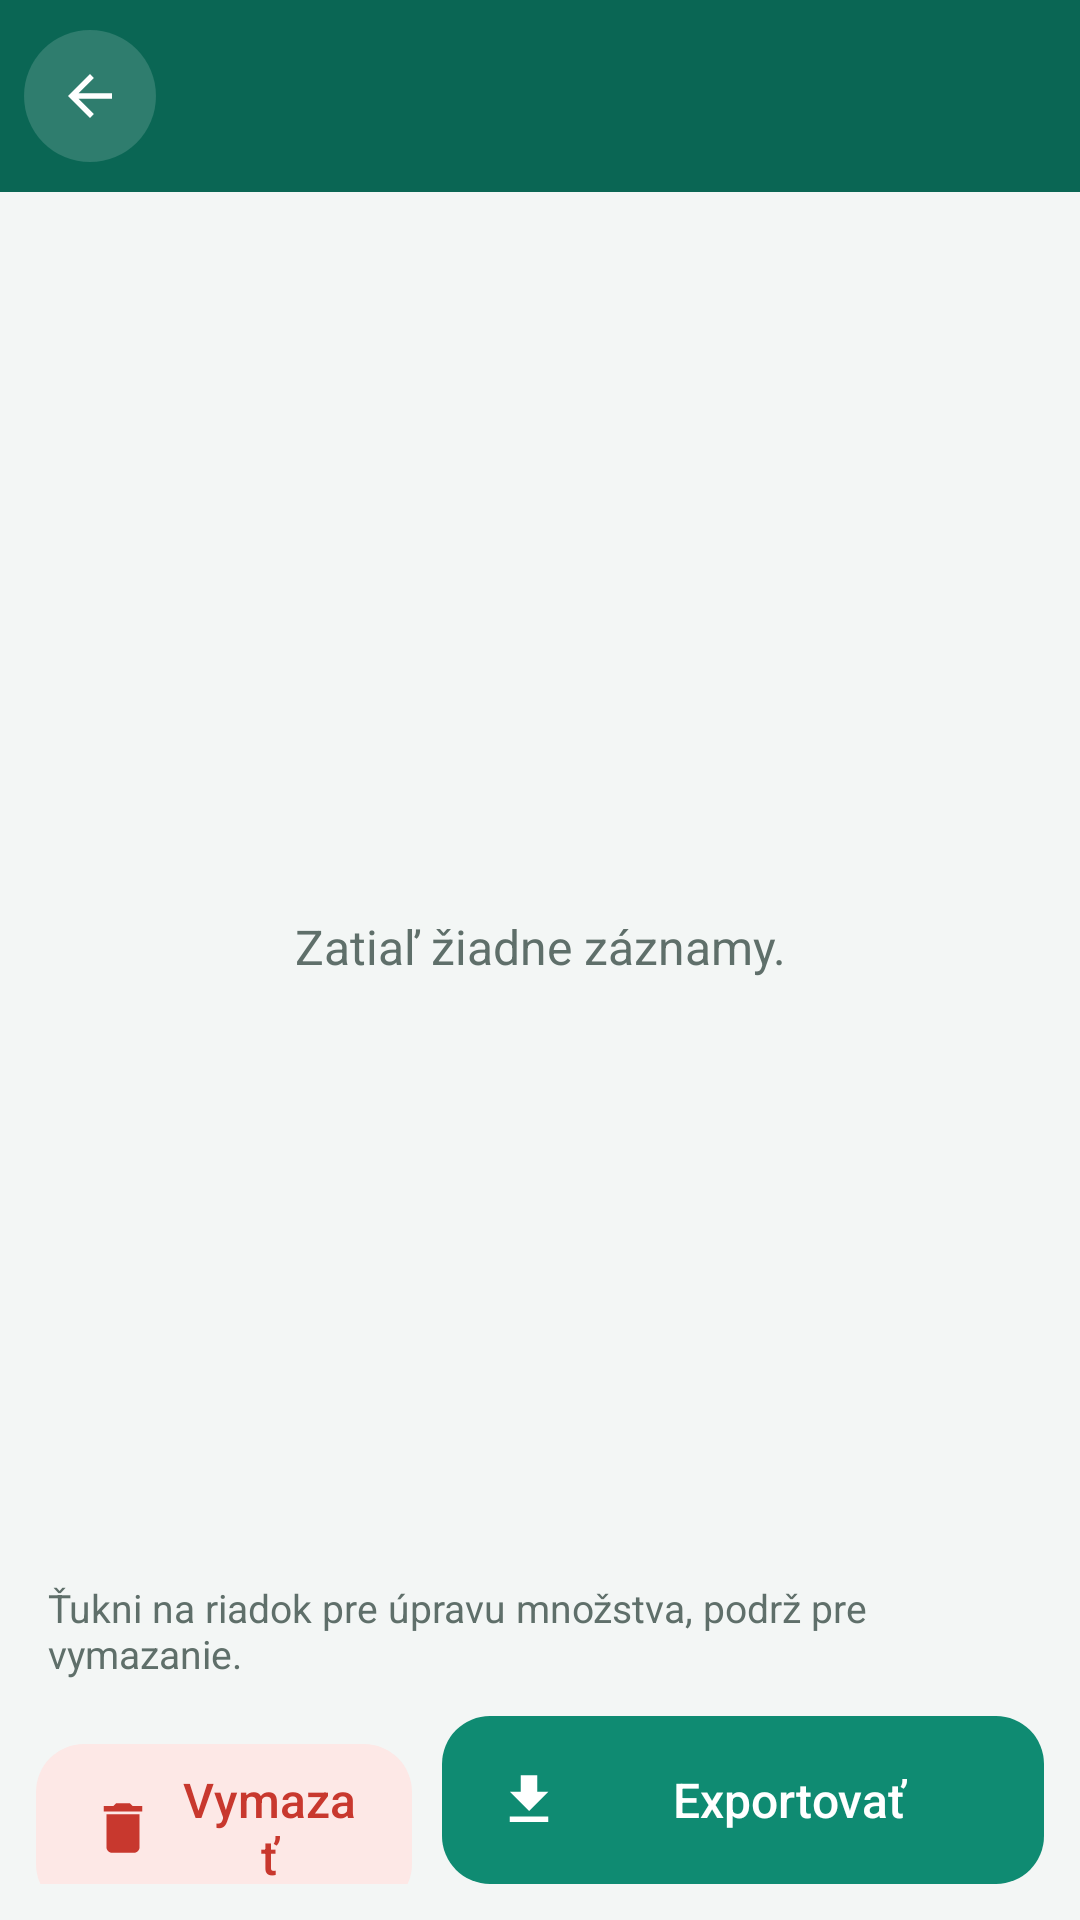

Icon click points for this 1080px×1920px phone screenshot, format [x,y]:
Späť: [90,96]
